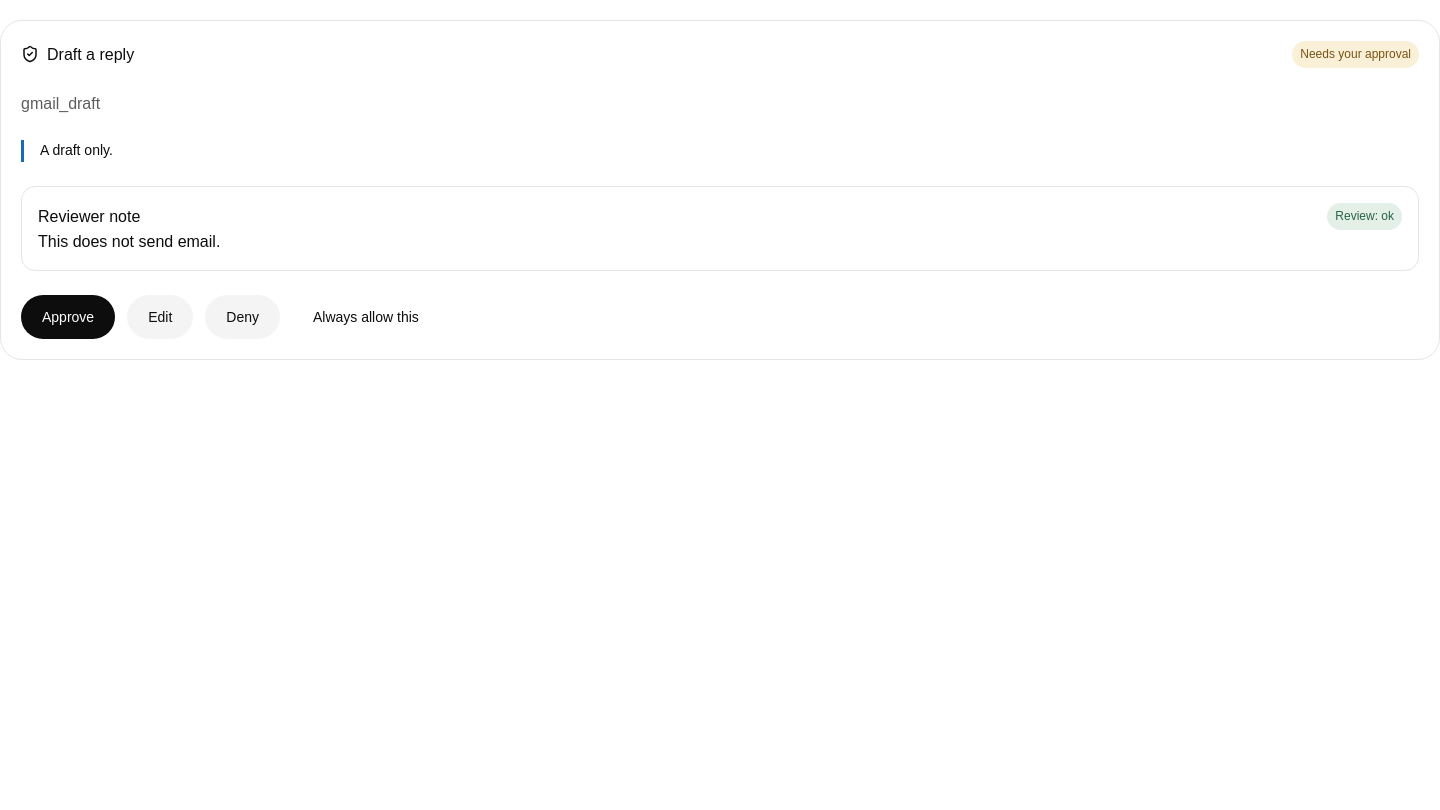
Test: refreshes after a 404 decision conflict and removes stale actions
This screenshot has width=1440, height=810.
Click the button "Approve" at [68, 318], box [21, 296, 115, 340]
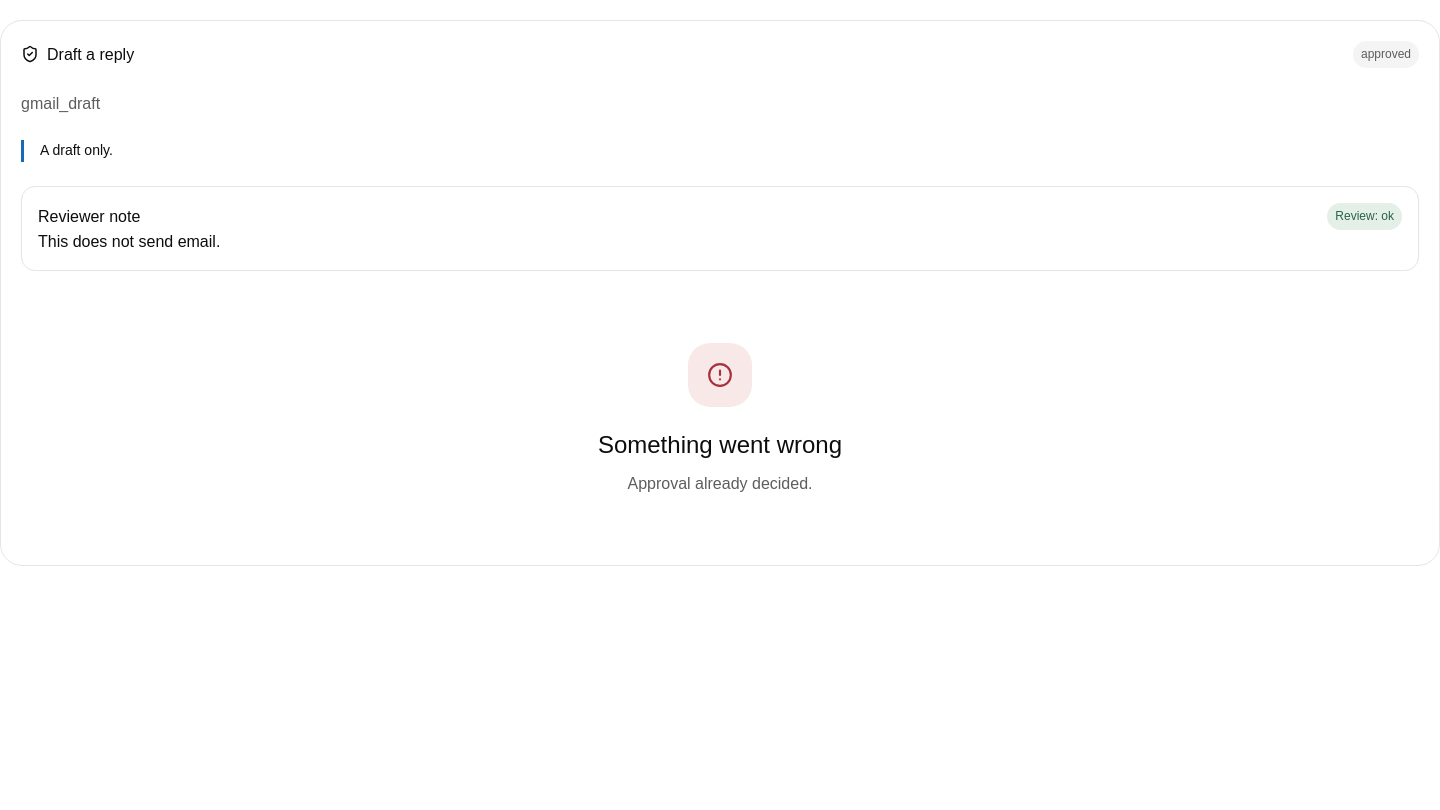
Expected: the text "Approval already decided." is shown, [628, 472, 812, 497]
